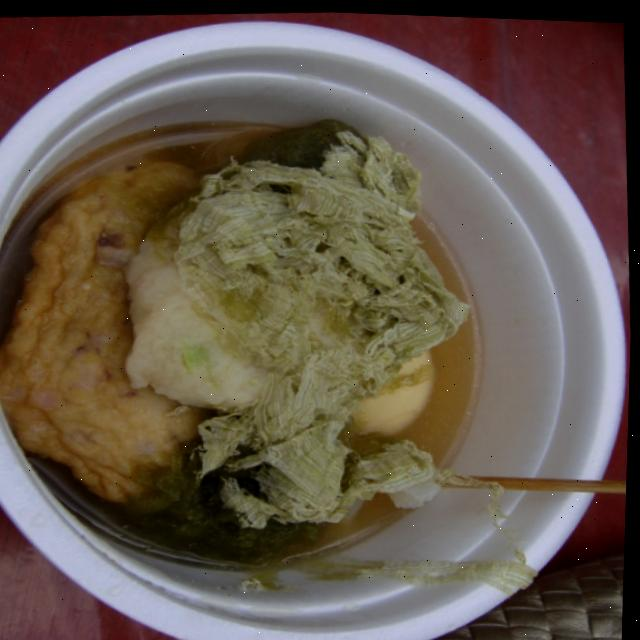汤锅炖物: (0, 96, 506, 588)
